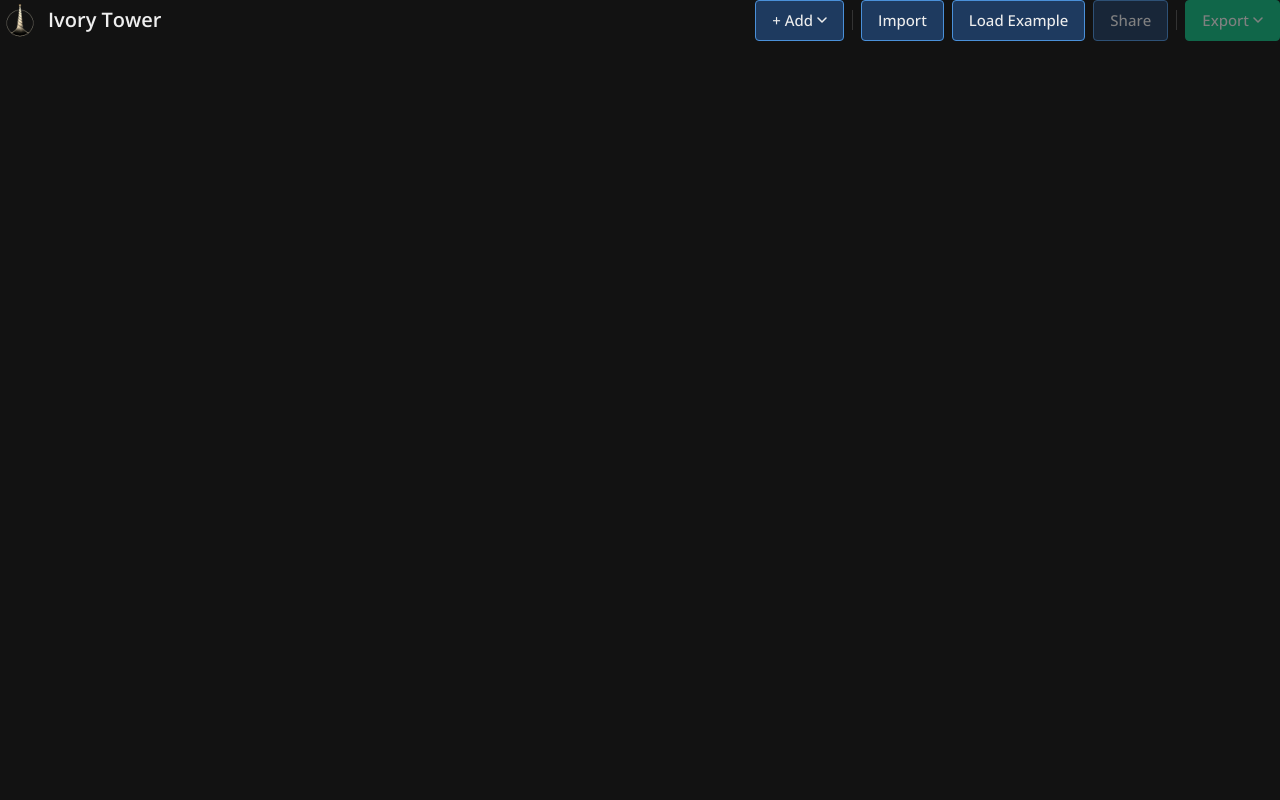
Scenario: Toolbar › Add dropdown › closes dropdown after selecting an item
Click the button "+ Add". click: point(800, 20)
box: [755, 0, 844, 40]
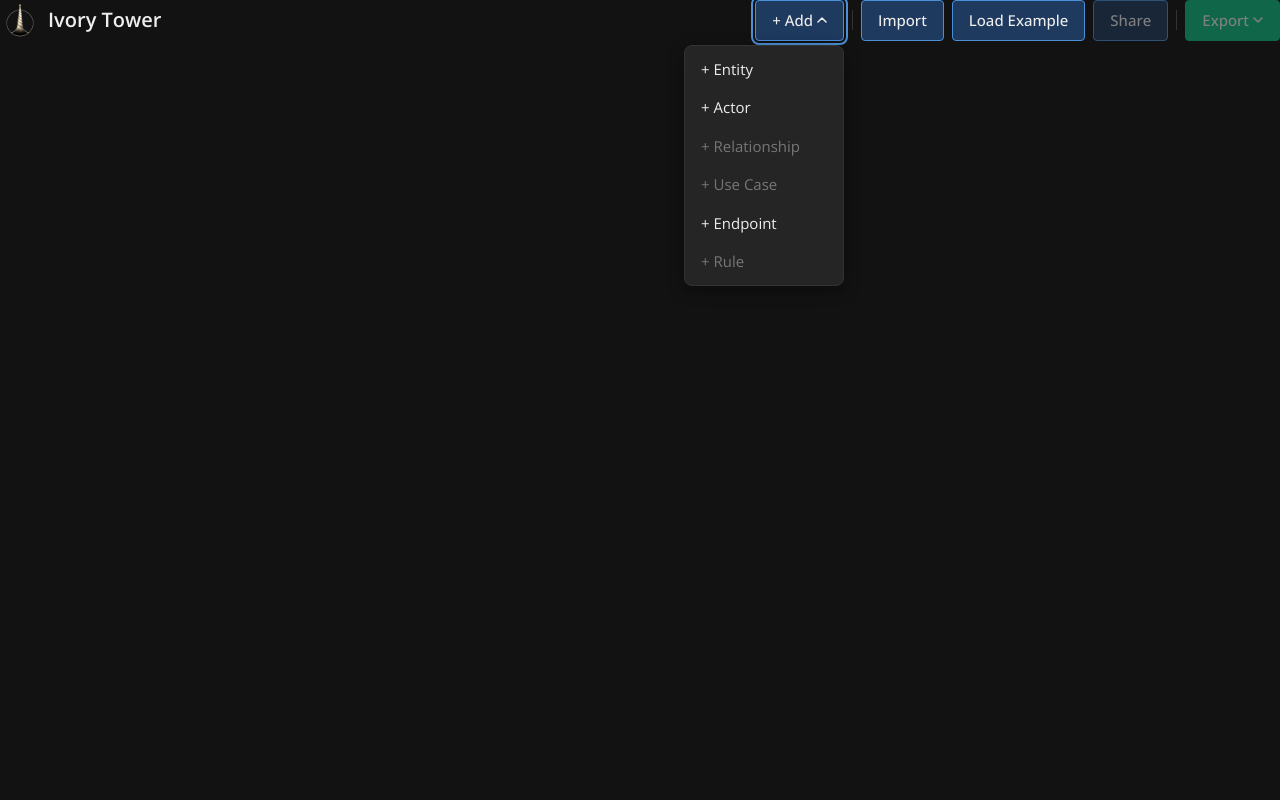
Click the menu item "+ Entity". click: point(764, 69)
box: [685, 50, 843, 88]
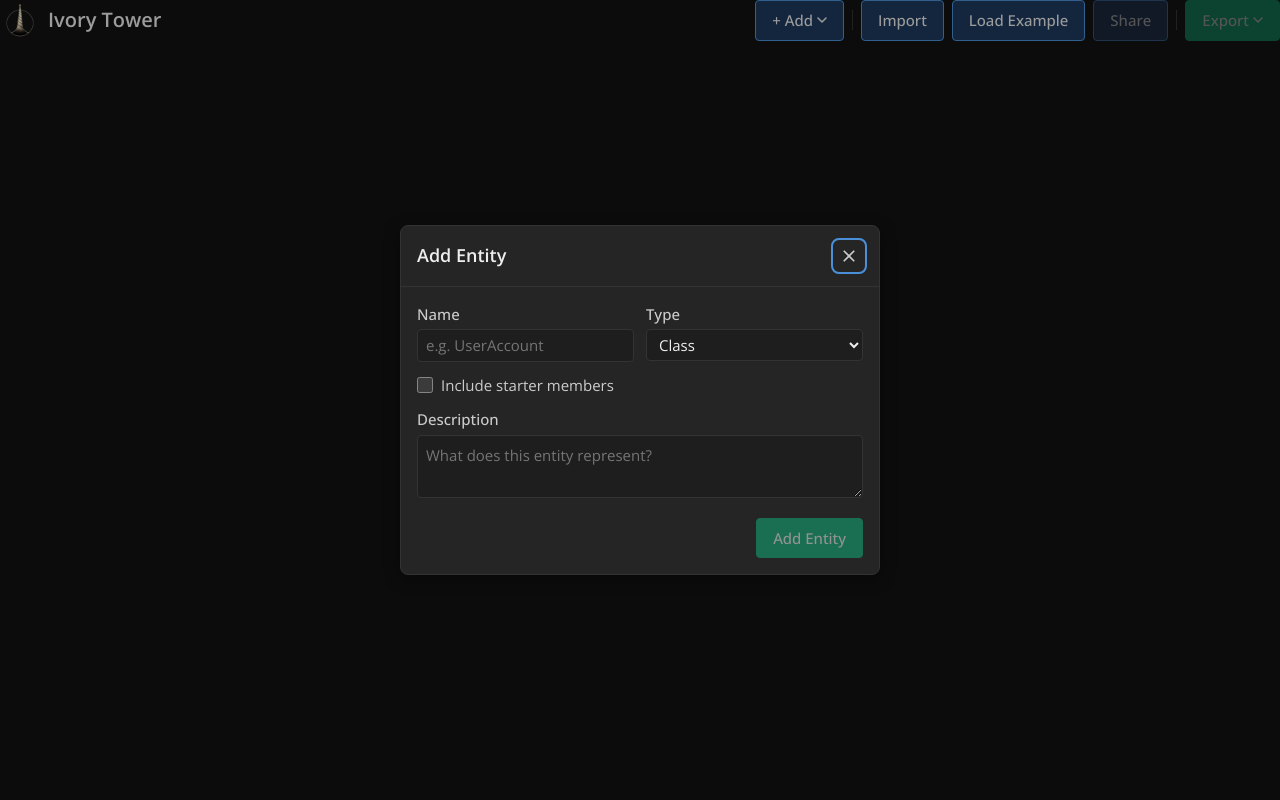
Check: the menu item "+ Entity" is gone
